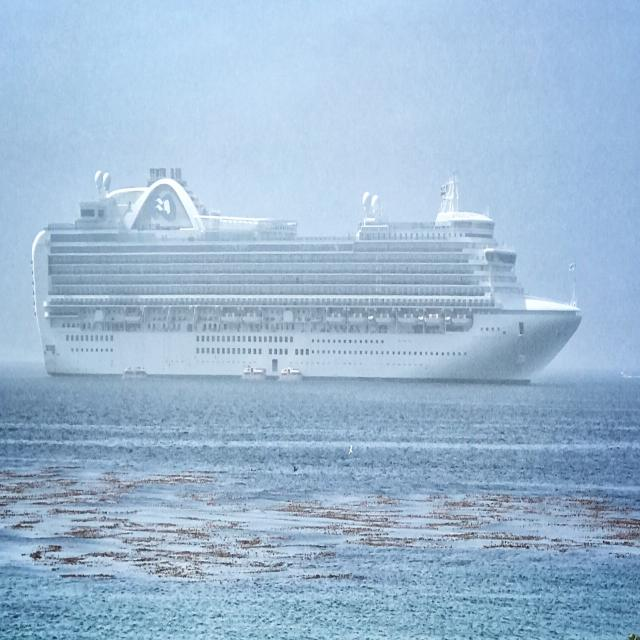passenger ship: (28, 148, 589, 391)
